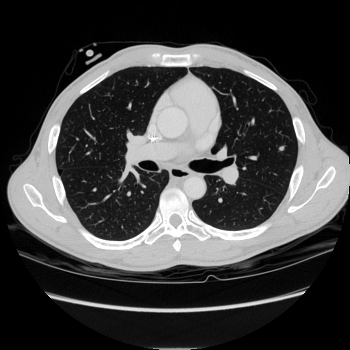nodule: (279, 145, 285, 151)
